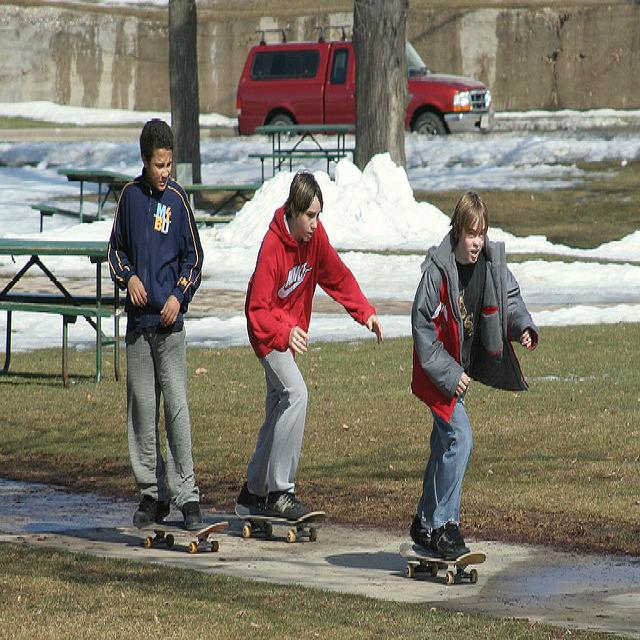Vehicle: (232, 30, 495, 134)
